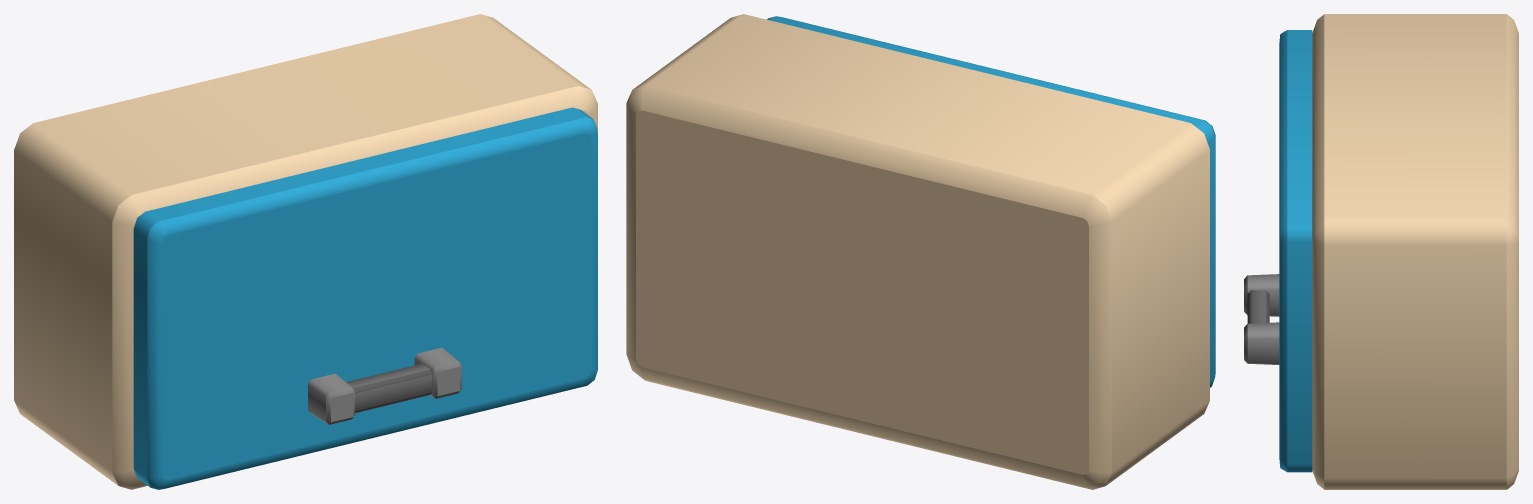
Rendered from Furnit_A_8.glb.
The picture shows the model from 3 angles, left to right: view 1: azimuth 30°, elevation 25°; view 2: azimuth 150°, elevation 25°; view 3: azimuth 270°, elevation 25°; orthographic projection. The views are drawn at different scales.
Parts seen in each view (by area): view 1: Furnit_A_8_S1, Furnit_A_8; view 2: Furnit_A_8, Furnit_A_8_S1; view 3: Furnit_A_8, Furnit_A_8_S1.
Boxes of the visible parts, x1=… form: Furnit_A_8_S1: x1=133, y1=107, x2=597, y2=489; Furnit_A_8: x1=14, y1=14, x2=597, y2=489; Furnit_A_8: x1=626, y1=14, x2=1209, y2=489; Furnit_A_8_S1: x1=767, y1=16, x2=1215, y2=387; Furnit_A_8: x1=1312, y1=14, x2=1518, y2=489; Furnit_A_8_S1: x1=1244, y1=30, x2=1312, y2=472.
Bounding box in the file's own units: 0.9 × 0.5223 × 0.4755.
Materials: 1 (1 with a texture image).
